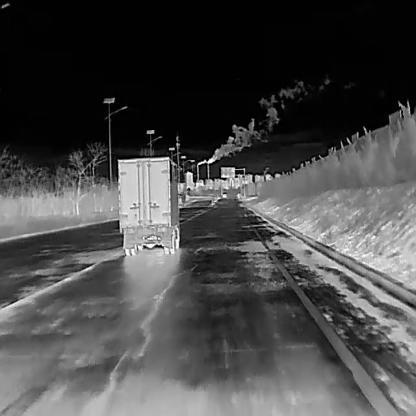car: (117, 156, 185, 255), (220, 190, 227, 197)
